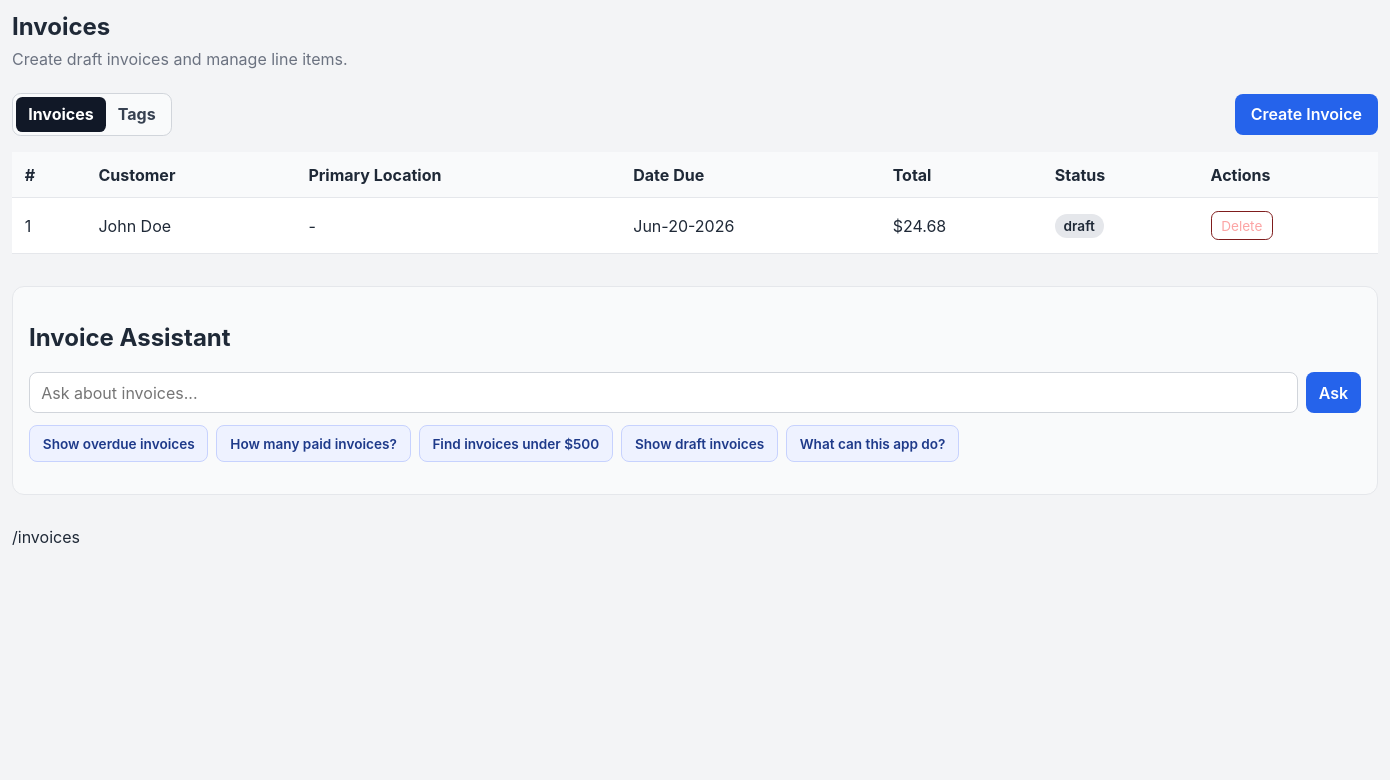
Test: InvoicesPage › opens invoice detail when an invoice row is clicked
Click the row named "View invoice 1" at (695, 226), box left=12, top=198, right=1378, bottom=254
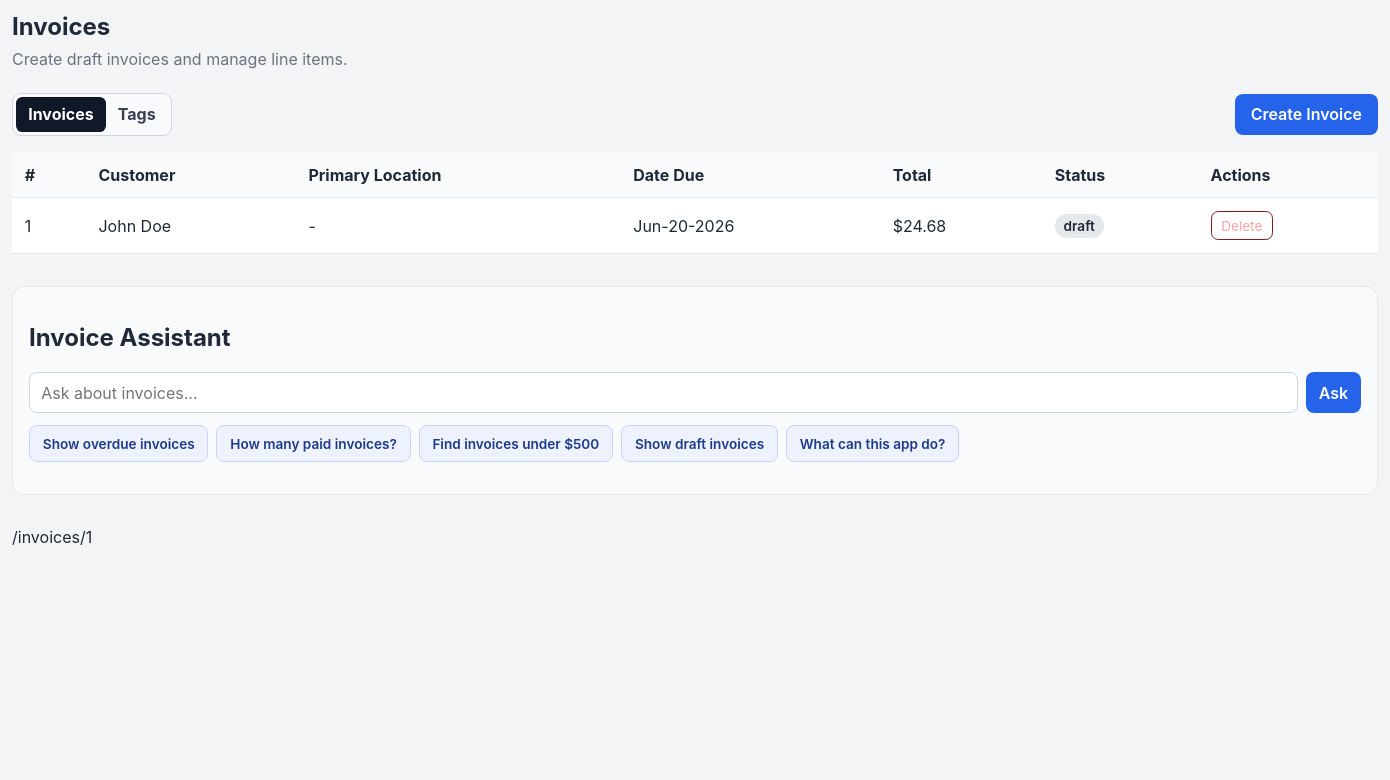
expect the text with test id "location-path" reads "/invoices/1": met, box left=12, top=527, right=92, bottom=547
